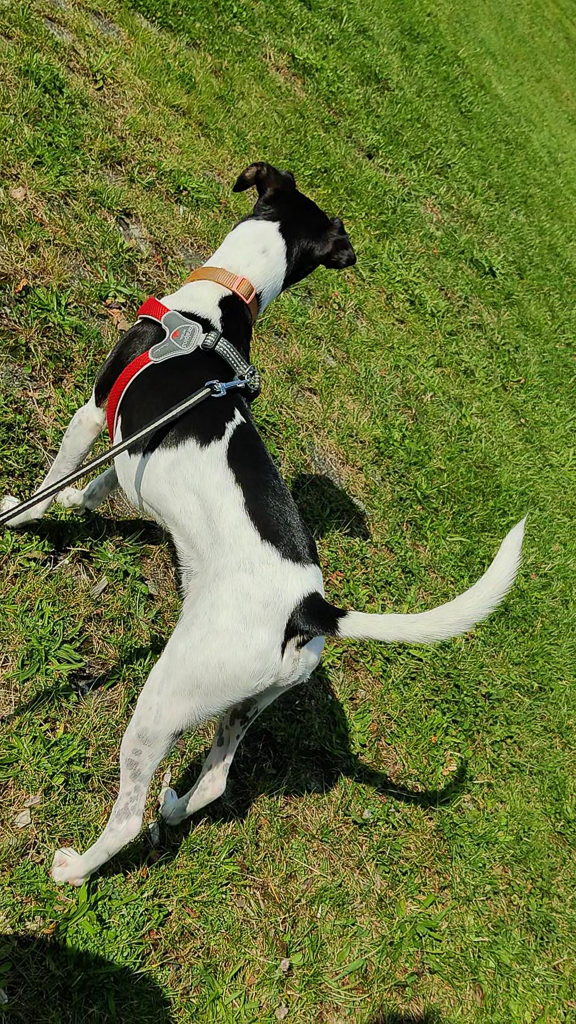Dog: (0, 152, 534, 907)
